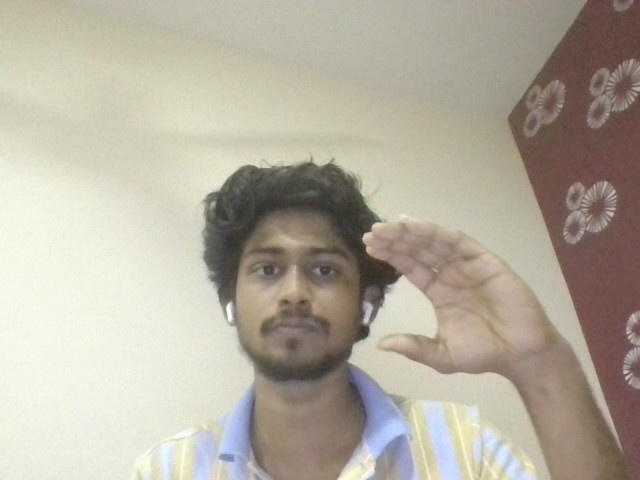No: (356, 215, 593, 370)
